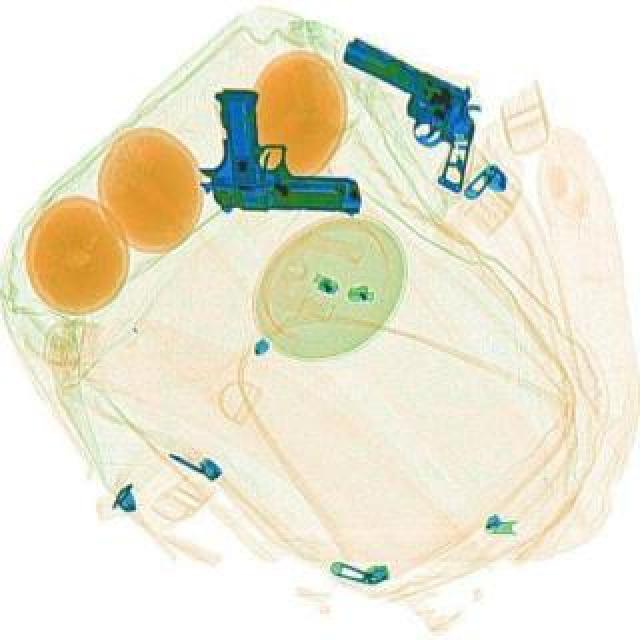gun: (304, 32, 510, 192), (200, 86, 364, 214)
